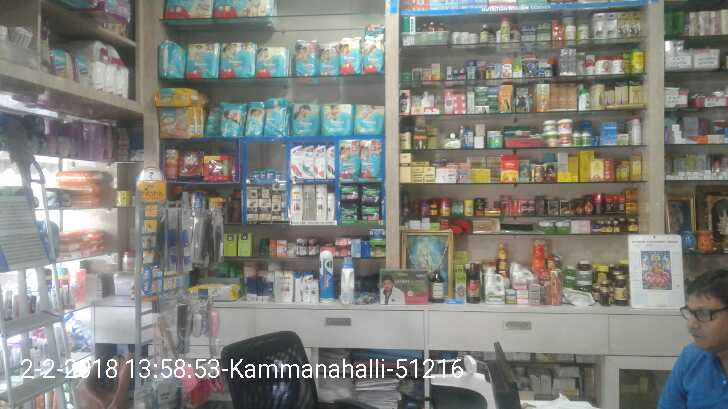beauty: (314, 181, 327, 219), (302, 182, 314, 222), (289, 184, 301, 221), (257, 198, 270, 222), (246, 198, 256, 220), (327, 191, 334, 219), (273, 200, 281, 221)
pharmacy: (220, 41, 255, 78), (186, 45, 221, 78), (256, 45, 290, 77), (159, 38, 185, 79), (291, 102, 321, 137), (322, 105, 352, 137), (296, 38, 320, 77), (264, 97, 288, 135), (361, 37, 385, 74), (338, 36, 360, 76), (222, 102, 247, 137), (338, 139, 361, 177), (355, 104, 384, 134), (362, 140, 382, 177), (245, 99, 264, 135), (320, 46, 339, 76)
